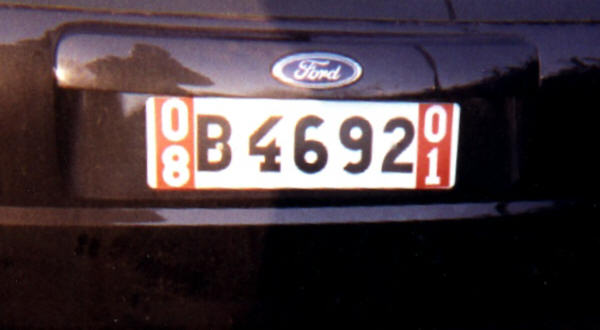license_plate: (145, 96, 460, 191)
